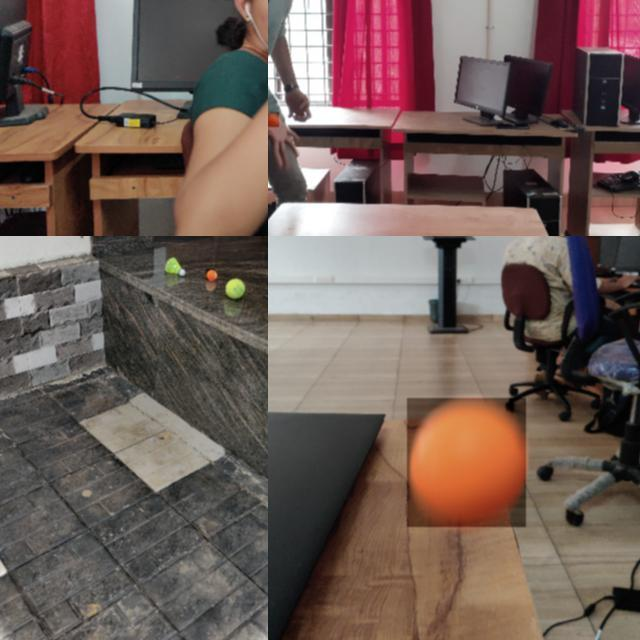ping-pong-ball: (407, 398, 527, 528), (268, 112, 281, 129), (206, 269, 216, 281)
